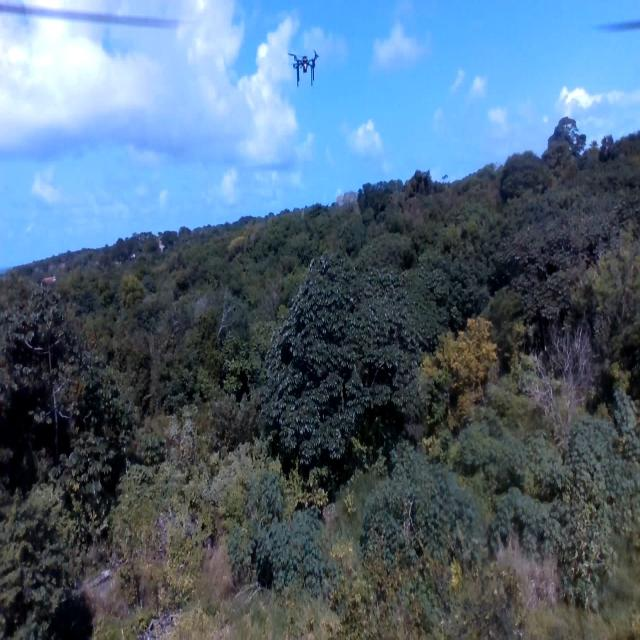-uav-: (282, 38, 328, 94)
